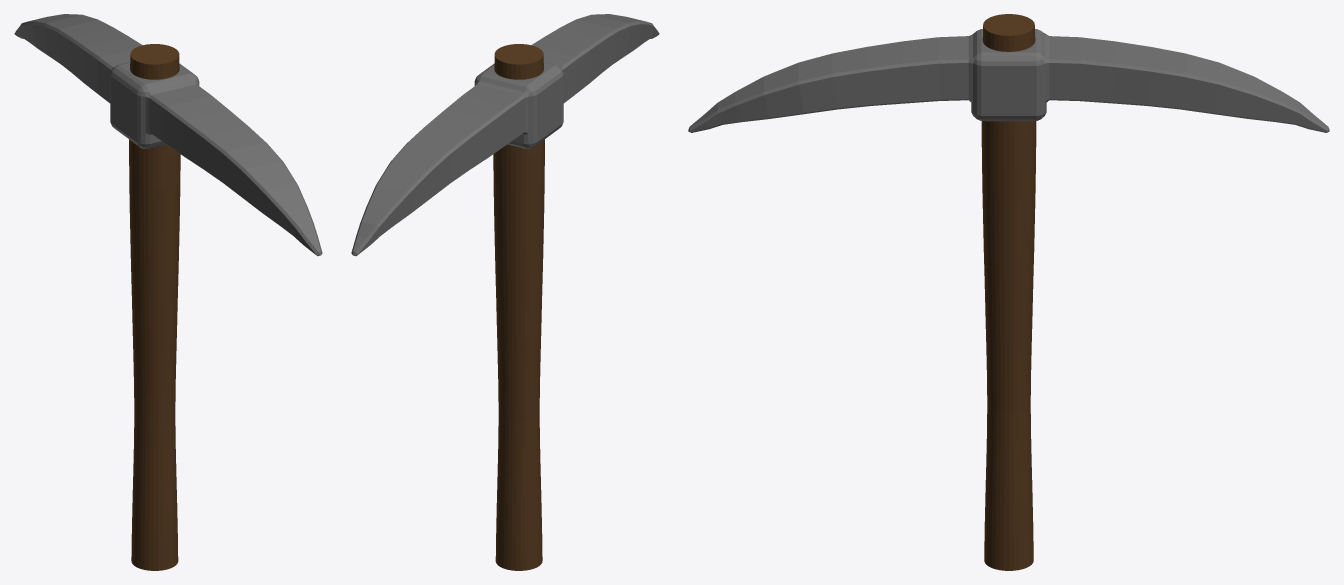
Rendered from pickaxe.glb.
The picture shows the model from 3 angles, left to right: view 1: azimuth 30°, elevation 25°; view 2: azimuth 150°, elevation 25°; view 3: azimuth 270°, elevation 25°; orthographic projection. The views are drawn at different scales.
Parts seen in each view (by area): view 1: Cylinder, Cube; view 2: Cylinder, Cube; view 3: Cube, Cylinder.
Boxes of the visible parts, x1,y1,x2,y2 form: Cylinder: (129,44,180,570); Cube: (14,14,322,256); Cylinder: (493,44,544,570); Cube: (351,14,659,256); Cube: (688,29,1329,132); Cylinder: (981,14,1036,570).
Bounding box in the file's own units: 0.4499 × 3.52 × 3.82.
